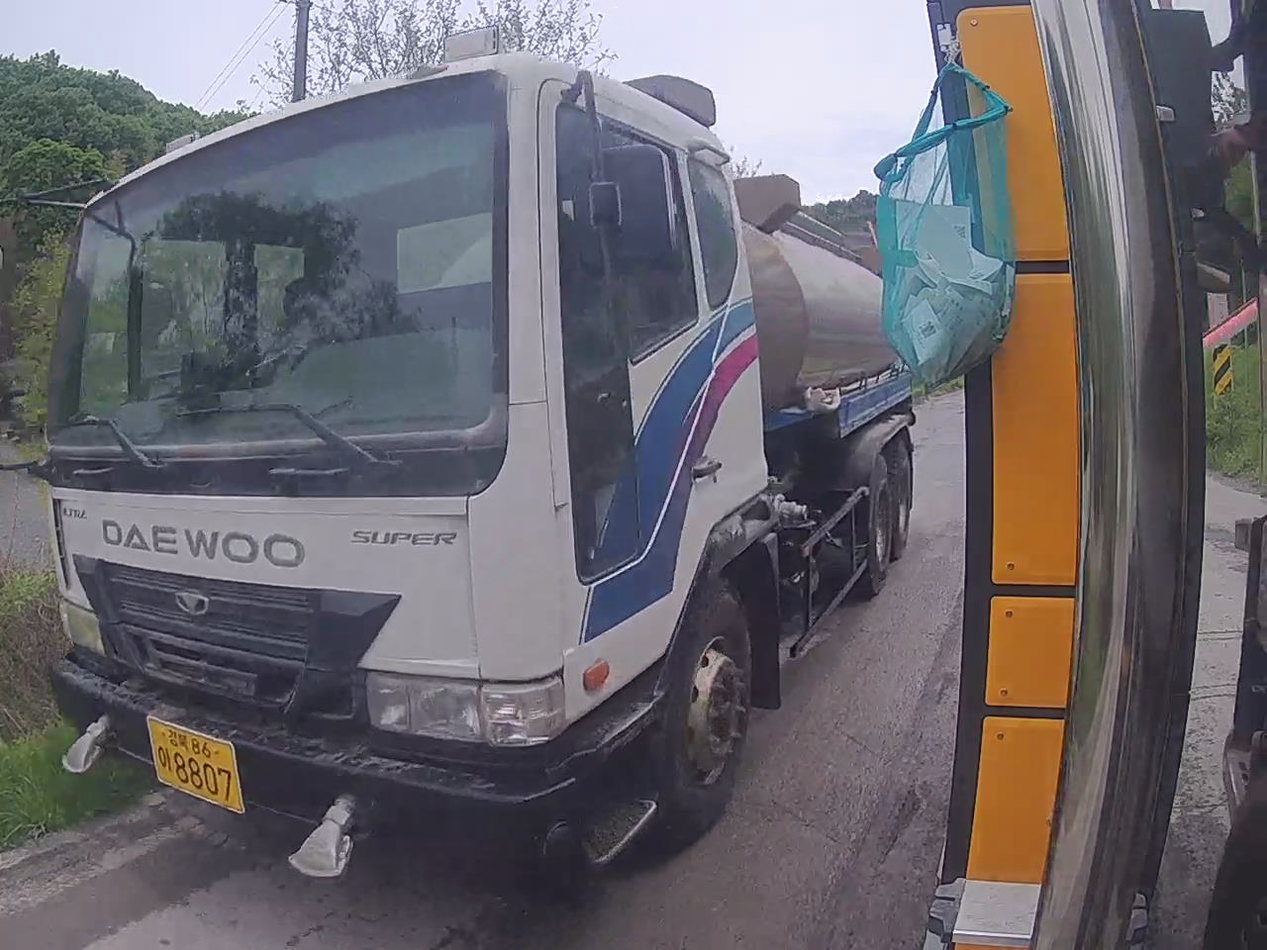license_plate: (148, 718, 243, 813)
truck: (35, 33, 913, 874)
